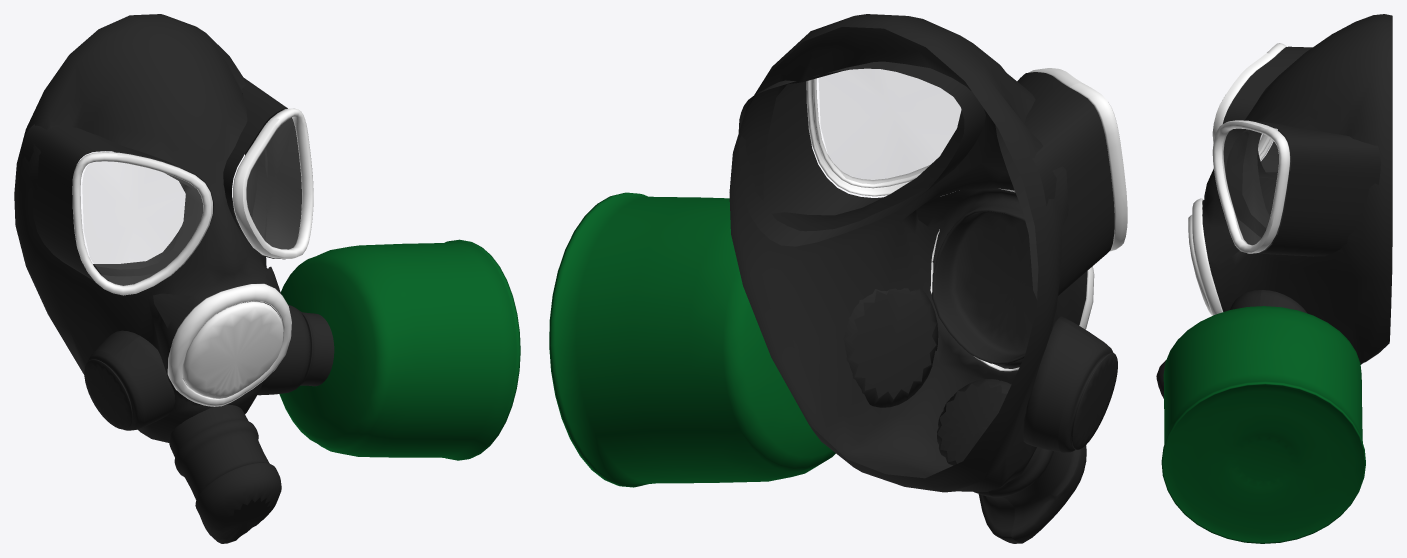
The picture shows the model from 3 angles, left to right: view 1: azimuth 30°, elevation 25°; view 2: azimuth 150°, elevation 25°; view 3: azimuth 270°, elevation 25°; orthographic projection. The views are drawn at different scales.
Parts seen in each view (by area): view 1: Sphere001, Object002_05 - Default_0, Object003_03___Default_0, Object001_07 - Default_0, Cylinde(4), Object006_04 - Default_0, Object008_04 - Default_0, Cylinde(2), Object005_03___Default_0, Cylinder00, Cylinde(1), Cylinde(3); view 2: Sphere001, Object002_05 - Default_0, Object008_04 - Default_0, Object006_04 - Default_0, Object005_03___Default_0, Cylinde(4), Cylinde(2), Cylinde(3), Cylinde(1), Cylinder00, Object001_07 - Default_0; view 3: Object002_05 - Default_0, Sphere001, Object008_04 - Default_0, Object005_03___Default_0, Cylinder00, Object006_04 - Default_0, Object001_07 - Default_0, Cylinde(1), Cylinde(3).
Part boxes in pixels (box(x1,y1,x2,y2)): Sphere001: box(14, 14, 280, 442); Object002_05 - Default_0: box(279, 239, 520, 460); Object003_03___Default_0: box(82, 161, 202, 285); Object001_07 - Default_0: box(167, 283, 291, 406); Cylinde(4): box(169, 405, 281, 543); Object006_04 - Default_0: box(22, 124, 213, 285); Object008_04 - Default_0: box(223, 78, 301, 259); Cylinde(2): box(84, 330, 175, 430); Object005_03___Default_0: box(247, 118, 302, 249); Cylinder00: box(232, 108, 313, 258); Cylinde(1): box(72, 152, 212, 295); Cylinde(3): box(258, 304, 334, 395); Sphere001: box(729, 14, 1087, 492); Object002_05 - Default_0: box(549, 192, 835, 487); Object008_04 - Default_0: box(738, 61, 985, 246); Object006_04 - Default_0: box(995, 72, 1114, 299); Object005_03___Default_0: box(819, 69, 960, 183); Cylinde(4): box(937, 379, 1086, 543); Cylinde(2): box(1023, 316, 1117, 452); Cylinde(3): box(843, 288, 938, 407); Cylinde(1): box(1028, 68, 1127, 251); Cylinder00: box(806, 78, 930, 196); Object001_07 - Default_0: box(930, 188, 1094, 371); Object002_05 - Default_0: box(1161, 306, 1365, 543); Sphere001: box(1202, 14, 1392, 364); Object008_04 - Default_0: box(1223, 120, 1380, 256); Object005_03___Default_0: box(1222, 129, 1278, 244); Cylinder00: box(1212, 120, 1290, 253); Object006_04 - Default_0: box(1223, 46, 1312, 178); Object001_07 - Default_0: box(1188, 198, 1222, 315); Cylinde(1): box(1212, 43, 1286, 160); Cylinde(3): box(1230, 290, 1307, 313).
Bounding box in the file's own units: 1.52 × 1.65 × 0.8339.
